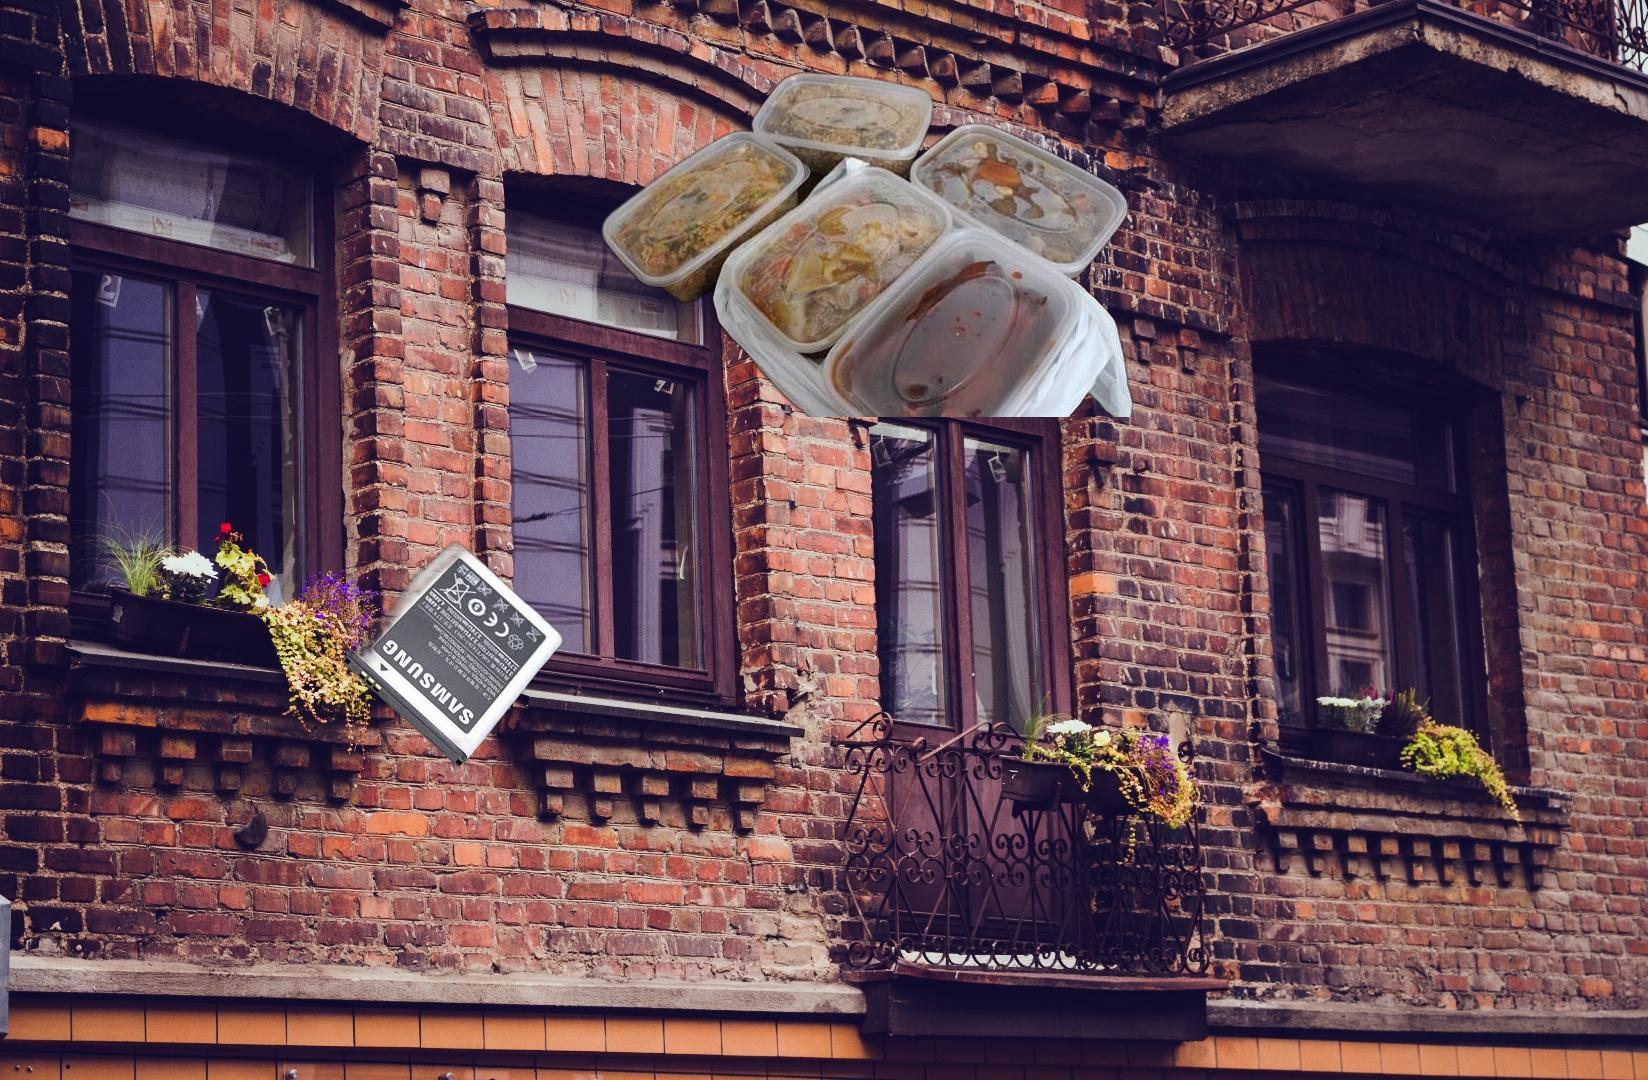battery: (342, 540, 564, 767)
biological: (563, 69, 1138, 417)
